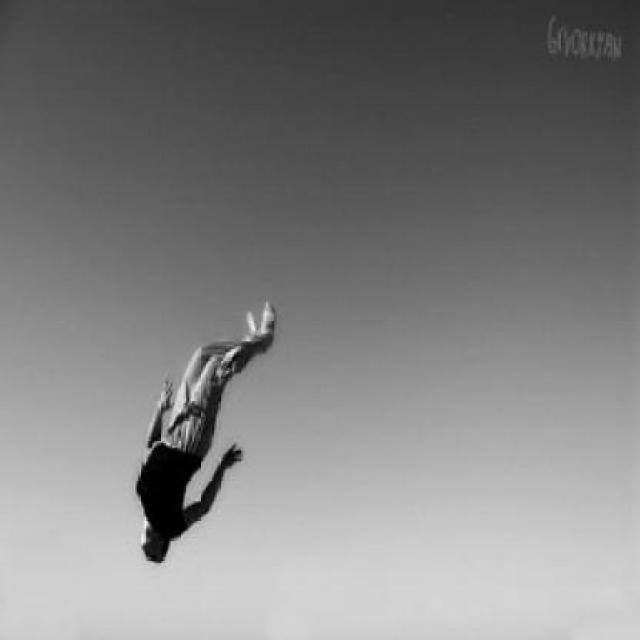fall: (132, 299, 279, 564)
